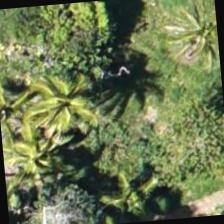Kelapa_Sawit: (8, 58, 106, 156), (0, 110, 80, 206)
